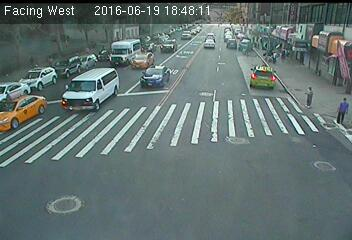neg: (315, 49, 336, 77), (84, 86, 101, 109), (271, 25, 287, 46), (241, 39, 254, 56), (137, 67, 149, 83), (134, 46, 143, 58)
pos: (334, 95, 351, 127), (302, 85, 320, 110), (280, 47, 292, 63), (270, 49, 281, 65), (45, 54, 55, 68), (27, 55, 37, 69)
